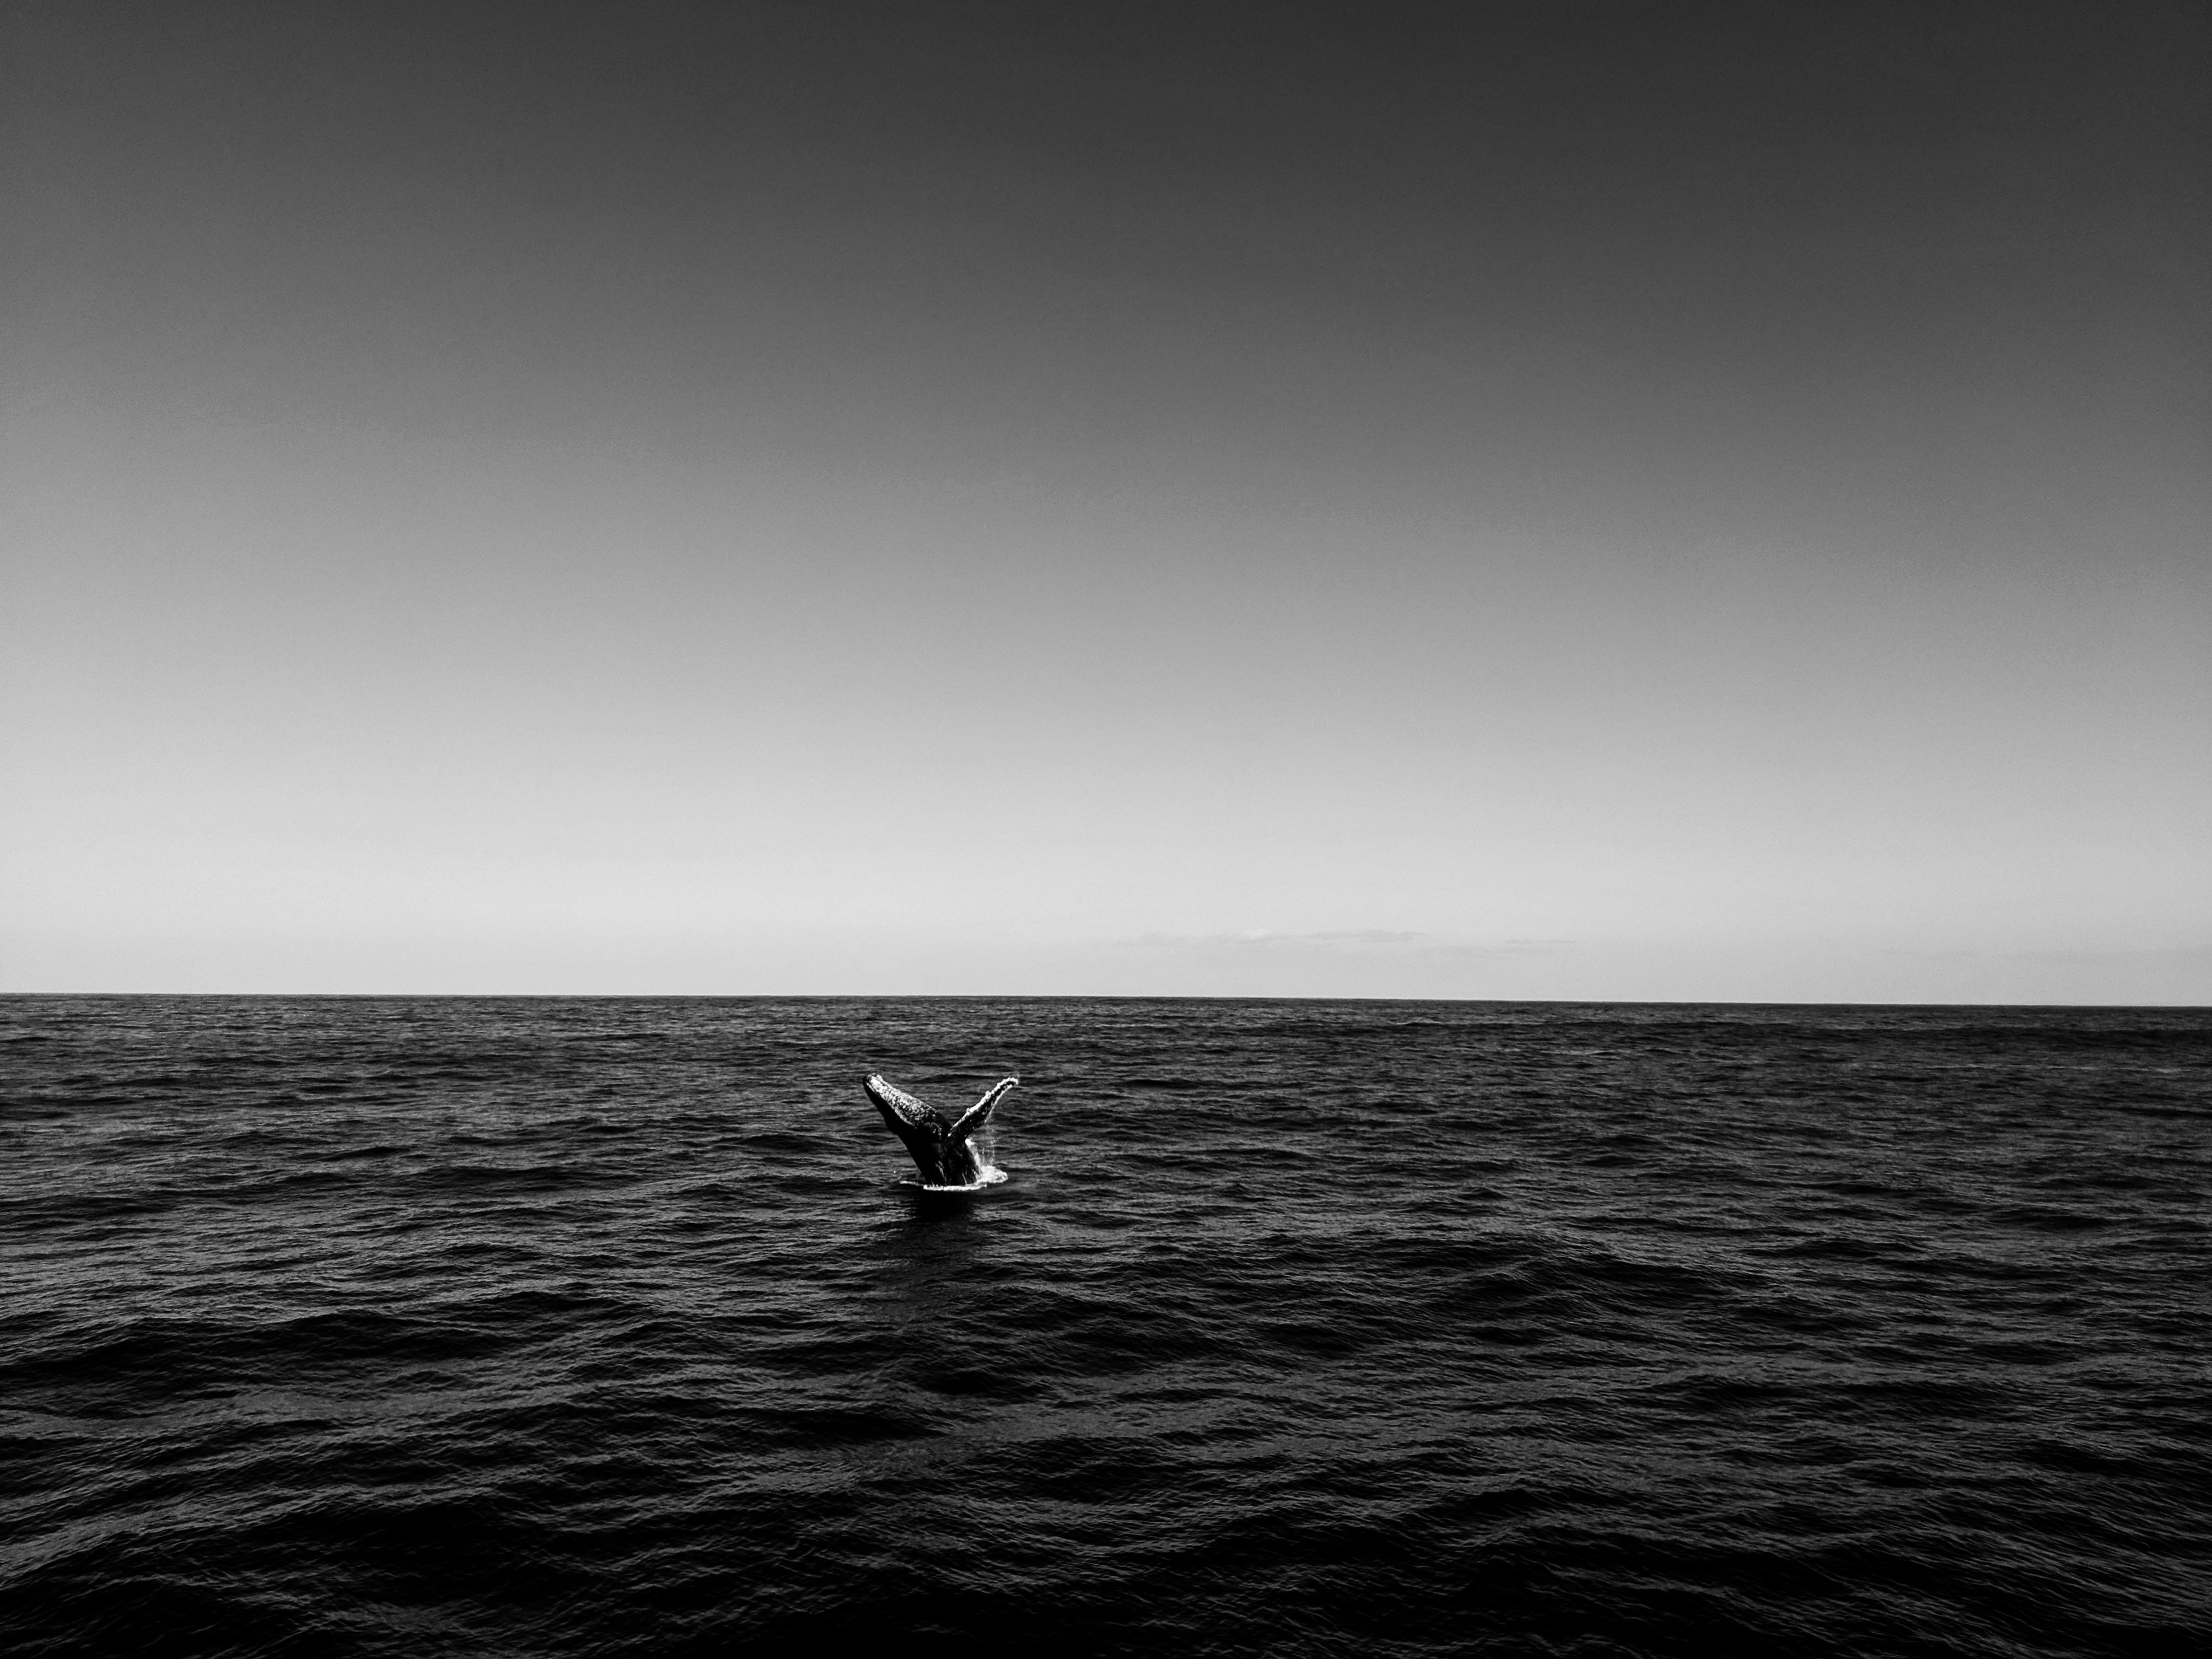whale: (859, 1068, 1020, 1190)
